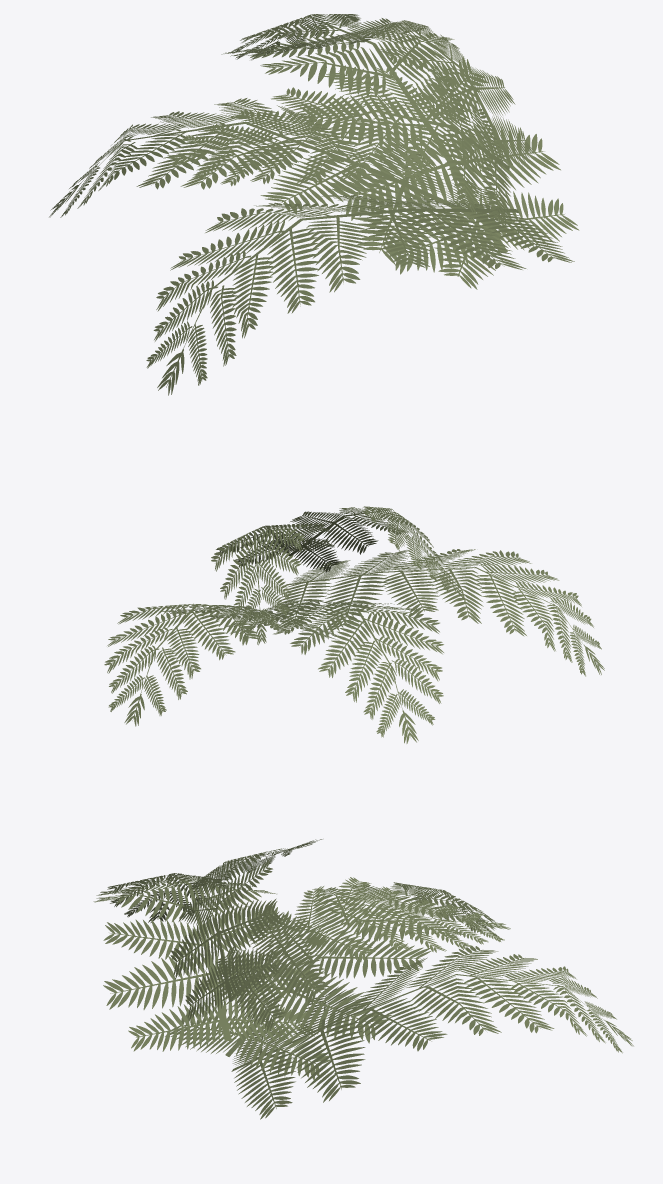
File: Helecho2.fbx
3 views of the same model, one above another, from view 1: azimuth 30°, elevation 25°; view 2: azimuth 150°, elevation 25°; view 3: azimuth 270°, elevation 25° (orthographic). The views are drawn at different scales.
Visible parts, largest first — view 1: Plane.002, Plane.003; view 2: Plane.002, Plane.003; view 3: Plane.002, Plane.003.
Boxes of the visible parts, x1=… form: Plane.002: x1=49, y1=14, x2=579, y2=395; Plane.003: x1=165, y1=20, x2=534, y2=227; Plane.002: x1=104, y1=549, x2=604, y2=743; Plane.003: x1=211, y1=506, x2=468, y2=645; Plane.002: x1=93, y1=873, x2=633, y2=1119; Plane.003: x1=170, y1=839, x2=510, y2=1031.
Bounding box in the file's own units: 259 × 118 × 292.
